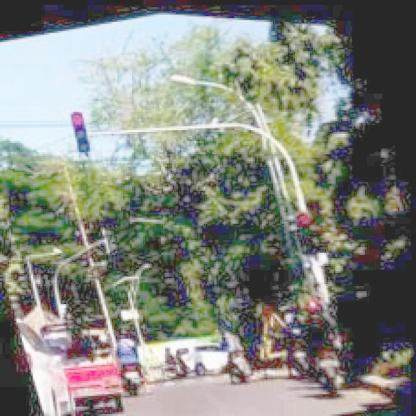Traffic Light -Red-: (70, 107, 98, 153), (296, 206, 322, 252)
